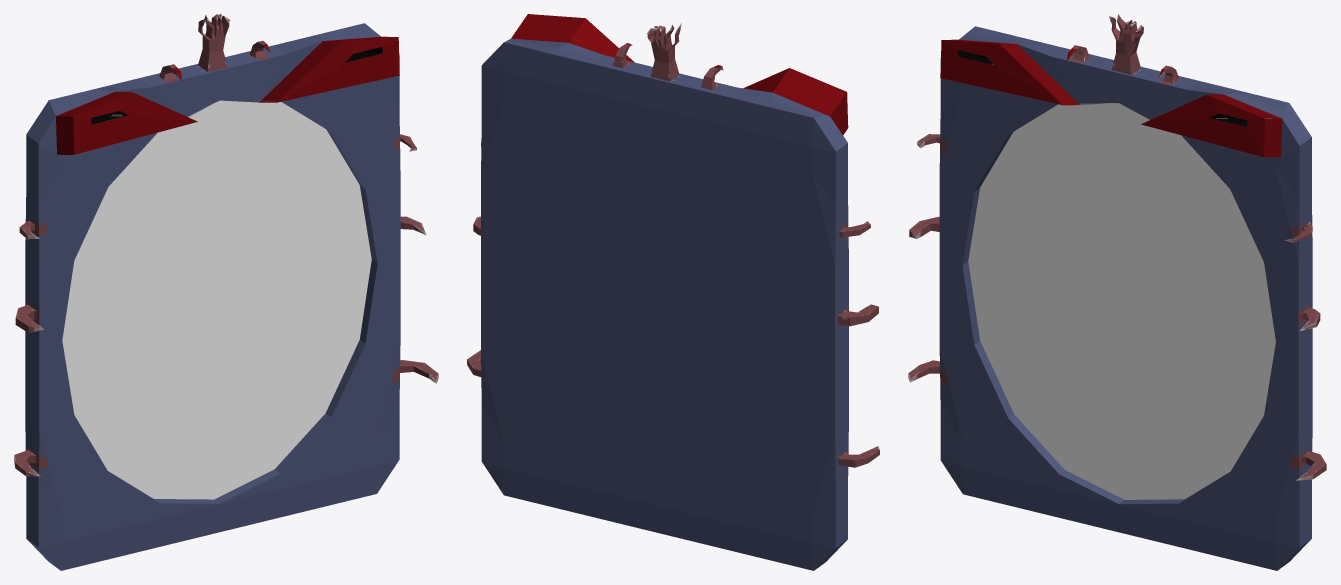
Rendered from Miror.fbx.
The picture shows the model from 3 angles, left to right: view 1: azimuth 30°, elevation 25°; view 2: azimuth 150°, elevation 25°; view 3: azimuth 330°, elevation 25°; orthographic projection.
Parts seen in each view (by area): view 1: Cube.005; view 2: Cube.005; view 3: Cube.005.
Boxes of the visible parts, bbox=[...] form: Cube.005: bbox=[14, 14, 438, 570]; Cube.005: bbox=[467, 14, 879, 570]; Cube.005: bbox=[908, 14, 1326, 570].
Bounding box in the file's own units: 227 × 273 × 32.35.
1 material, 1 textured.
